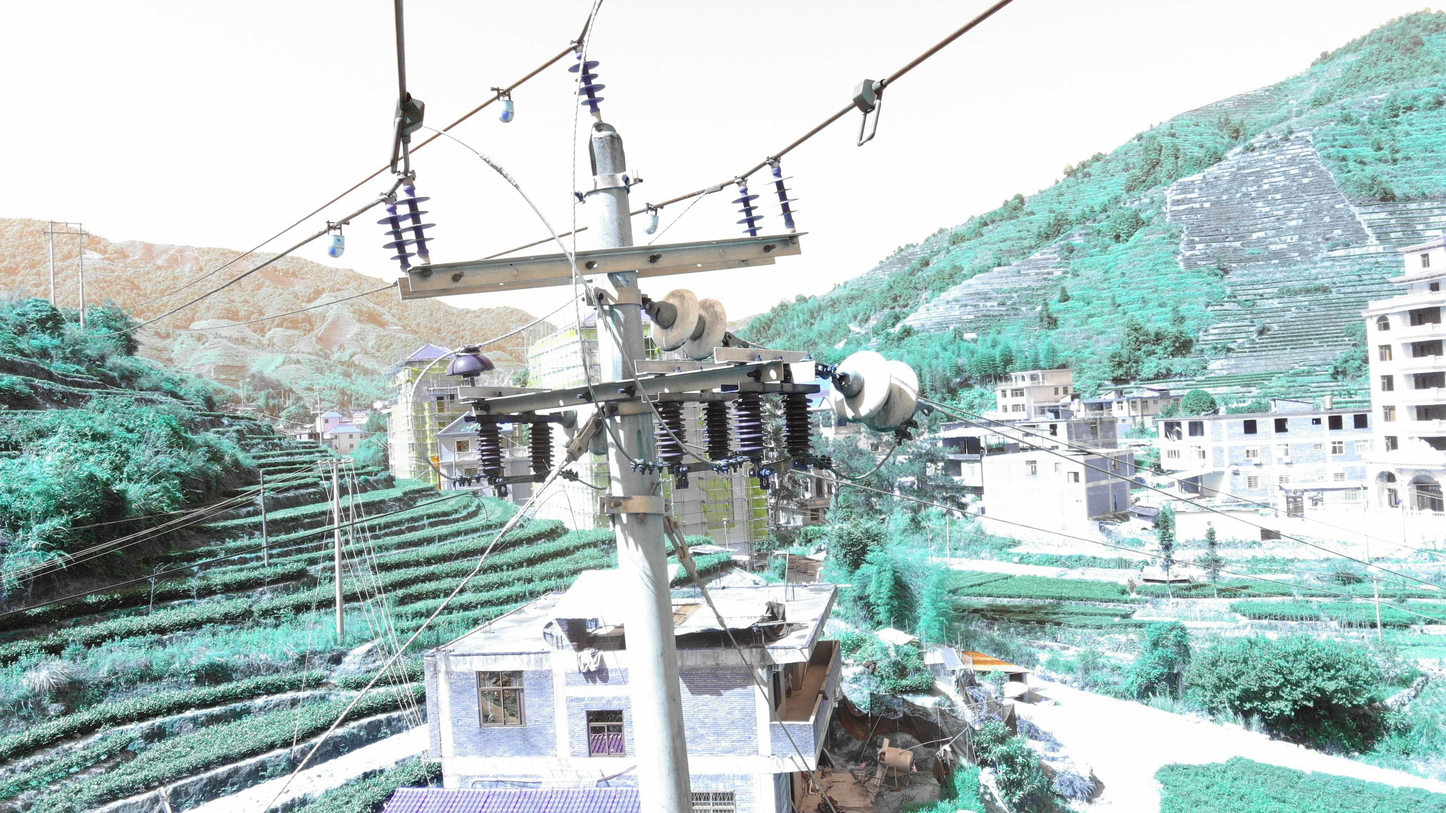severe_soiling_no_discharge_whole: (831, 351, 922, 431), (650, 287, 728, 361)
